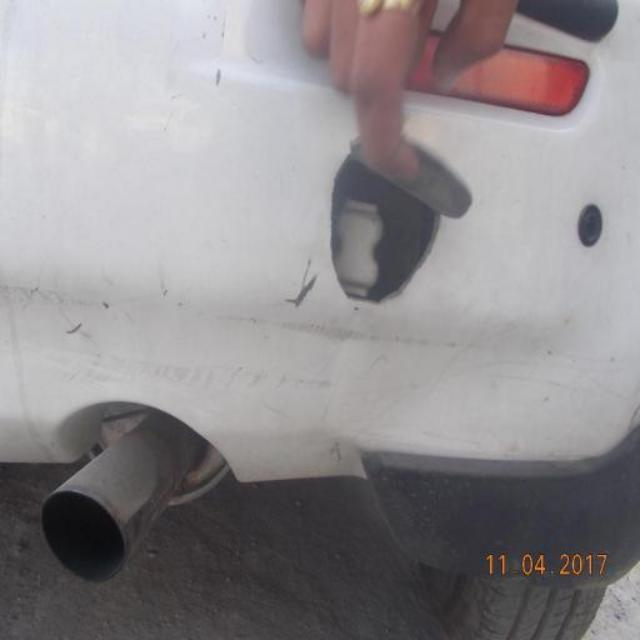crack: (321, 137, 451, 305), (285, 252, 320, 312)
scratch: (193, 298, 472, 356), (61, 351, 331, 390), (54, 291, 151, 341), (204, 13, 236, 86)
